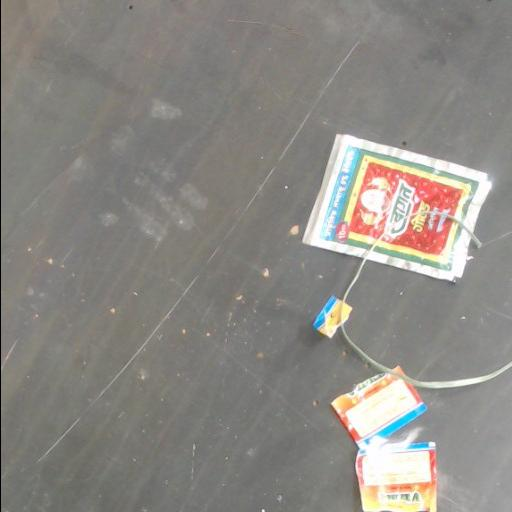conveyor belt: (1, 0, 512, 511), (348, 236, 512, 379)
packet: (302, 136, 491, 280), (331, 374, 435, 511), (314, 298, 350, 337)
thread: (339, 321, 512, 388), (343, 258, 365, 296)
